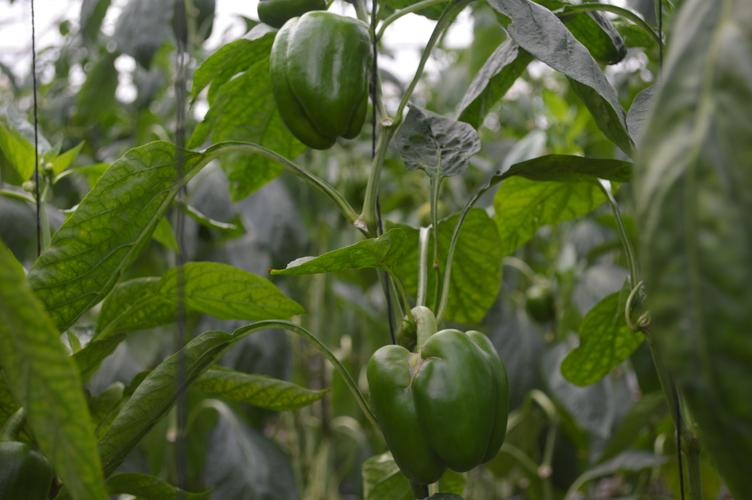BellPepper: (364, 323, 504, 488), (263, 13, 372, 147)
